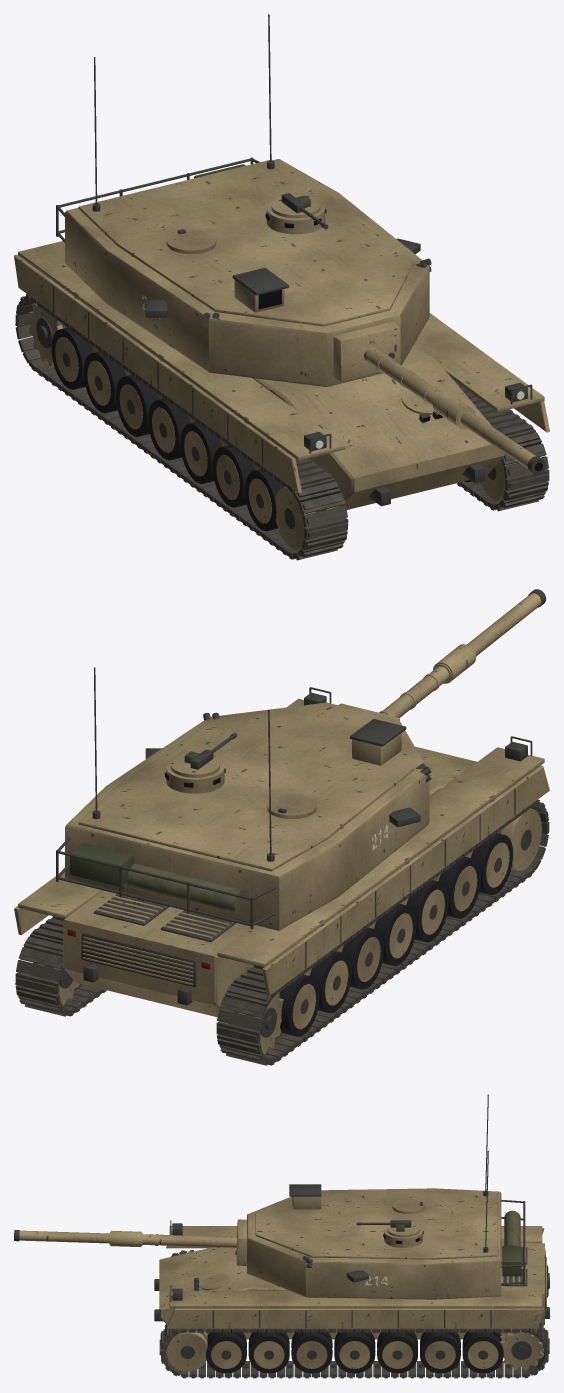
The model's file is battle-tank.glb.
3 views of the same model, one above another, from view 1: azimuth 30°, elevation 25°; view 2: azimuth 150°, elevation 25°; view 3: azimuth 270°, elevation 25° (orthographic). The views are drawn at different scales.
Parts seen in each view (by area): view 1: Hull, Turret, Gun; view 2: Hull, Turret, Gun; view 3: Hull, Turret, Gun.
Boxes of the visible parts, <box> form: Hull: <box>14,241,549,560</box>; Turret: <box>56,14,431,386</box>; Gun: <box>333,322,546,474</box>; Hull: <box>14,687,549,1065</box>; Turret: <box>56,667,431,930</box>; Gun: <box>338,589,546,720</box>; Hull: <box>154,1220,549,1378</box>; Turret: <box>247,1094,525,1299</box>; Gun: <box>14,1219,246,1265</box>.
Bounding box in the file's own units: 4.1 × 4.65 × 10.43.
Materials: 10 (7 with a texture image).
